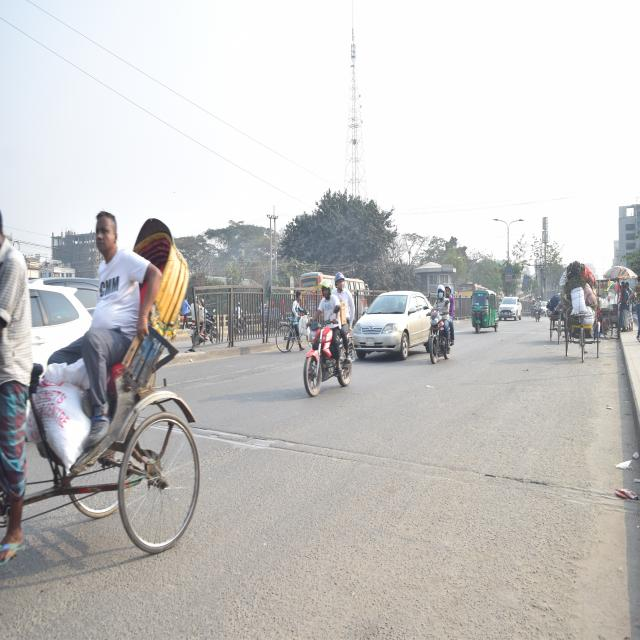car: (4, 270, 92, 392), (355, 281, 432, 364), (498, 292, 526, 326)
motorbike: (297, 306, 357, 401), (427, 296, 453, 372), (534, 296, 544, 324), (528, 296, 536, 322)
